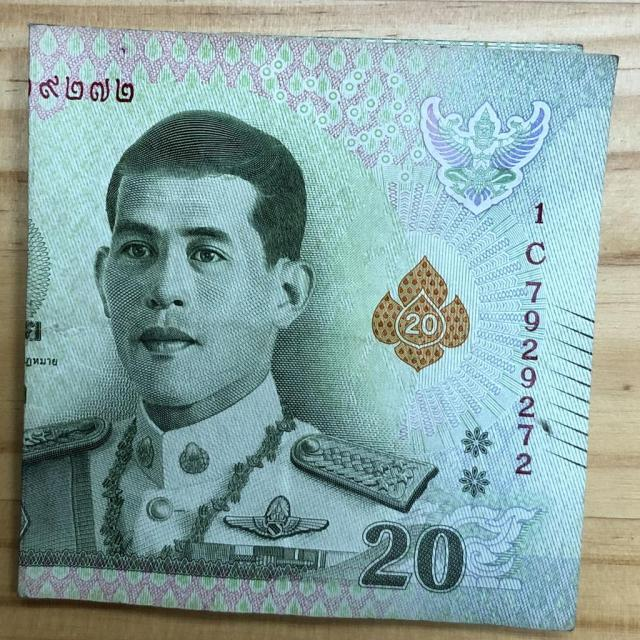THAI20: (10, 25, 620, 638)
